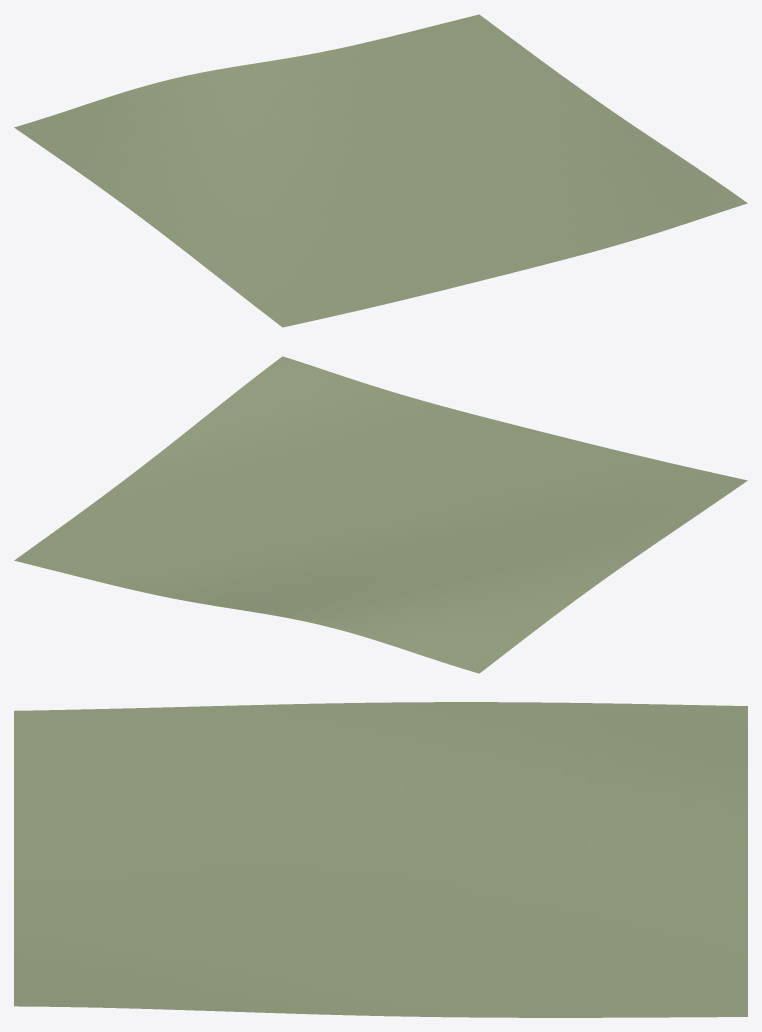
The model's file is desert-2-9.glb.
3 views of the same model, one above another, from view 1: azimuth 30°, elevation 25°; view 2: azimuth 150°, elevation 25°; view 3: azimuth 270°, elevation 25° (orthographic). The views are drawn at different scales.
Visible parts, largest first — view 1: desert-2-9; view 2: desert-2-9; view 3: desert-2-9.
Boxes of the visible parts, x1,y1,x2,y2 form: desert-2-9: (14,14,747,327); desert-2-9: (14,356,747,673); desert-2-9: (14,702,747,1017).
Bounding box in the file's own units: 512 × 16.06 × 512.
